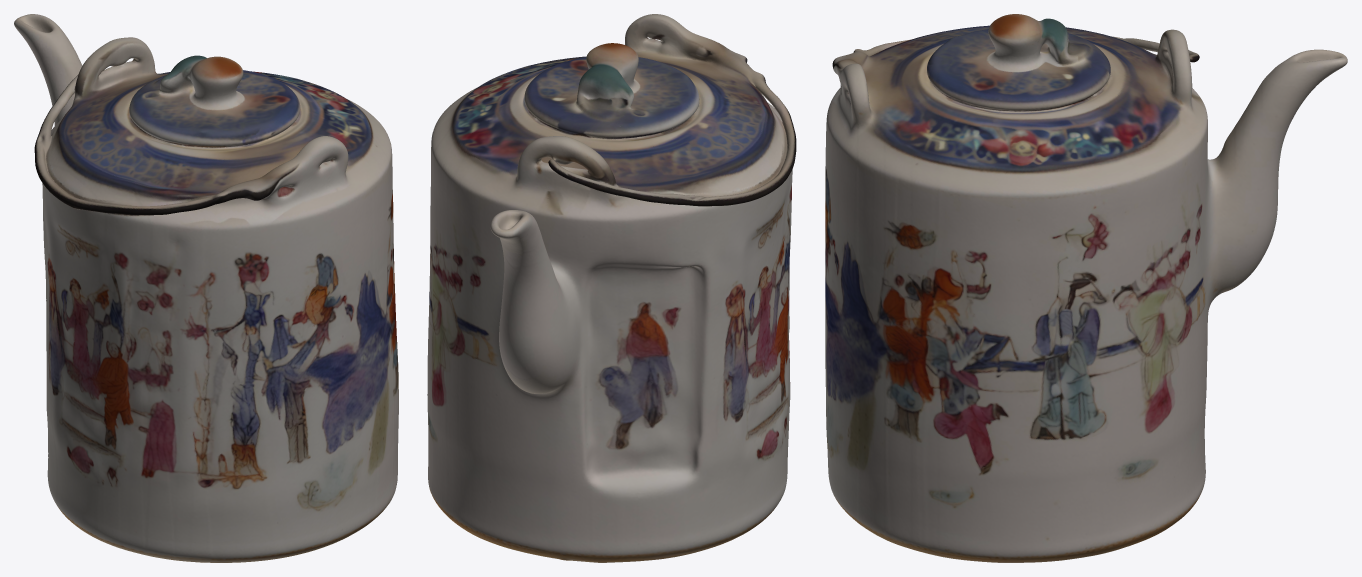
The model's file is teapot.glb.
The picture shows the model from 3 angles, left to right: view 1: azimuth 30°, elevation 25°; view 2: azimuth 150°, elevation 25°; view 3: azimuth 270°, elevation 25°; orthographic projection. The views are drawn at different scales.
Parts seen in each view (by area): view 1: tripo_node_196e6dac-3f94-420d-80c4-08d701bfd8ba; view 2: tripo_node_196e6dac-3f94-420d-80c4-08d701bfd8ba; view 3: tripo_node_196e6dac-3f94-420d-80c4-08d701bfd8ba.
Boxes of the visible parts, bbox=[...] form: tripo_node_196e6dac-3f94-420d-80c4-08d701bfd8ba: bbox=[14, 14, 398, 562]; tripo_node_196e6dac-3f94-420d-80c4-08d701bfd8ba: bbox=[427, 14, 796, 562]; tripo_node_196e6dac-3f94-420d-80c4-08d701bfd8ba: bbox=[825, 14, 1347, 562].
Size of the model in its own units: 0.7587 by 0.9974 by 1.
Materials: 1 (1 with a texture image).
